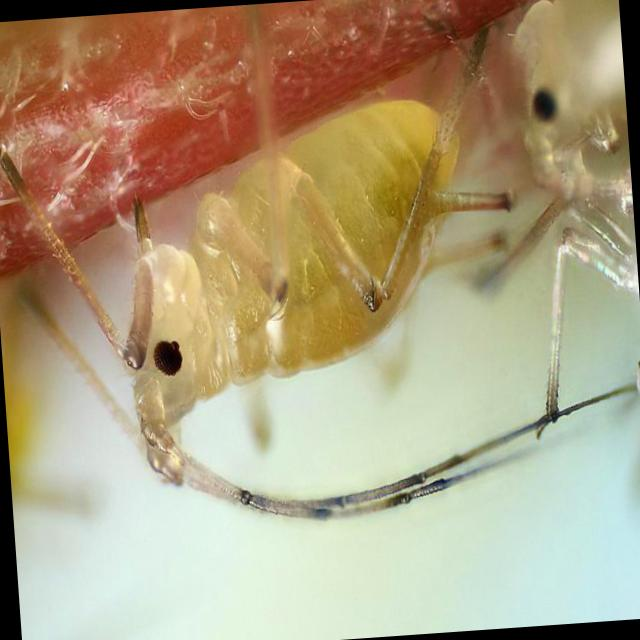Aphid: (37, 58, 640, 570)
